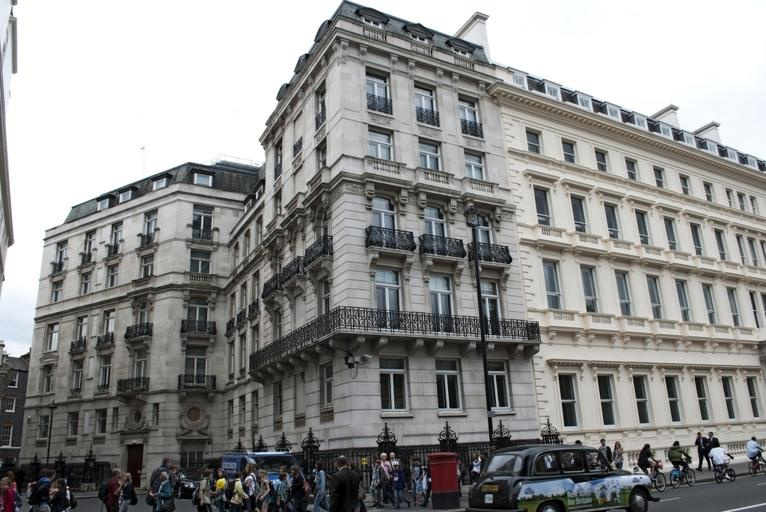non-vehicle: (631, 459, 667, 492), (670, 456, 696, 488), (714, 456, 735, 484), (748, 448, 766, 477)
